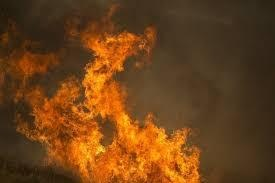fire: (13, 17, 217, 178)
